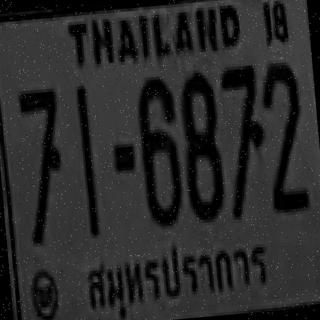N01: (74, 83, 98, 227)
N02: (257, 60, 308, 209), (258, 60, 306, 198)
N06: (134, 74, 182, 226)
N07: (16, 84, 67, 242), (218, 62, 268, 217)
N08: (175, 68, 224, 221)
P57: (73, 231, 278, 320)
